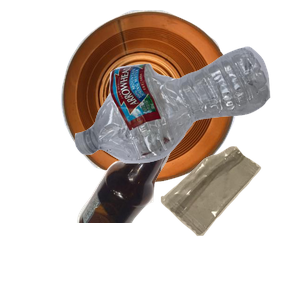glass: (74, 120, 244, 300)
metal: (58, 10, 289, 186)
plastic: (72, 44, 300, 200)
trash: (158, 144, 300, 300)
